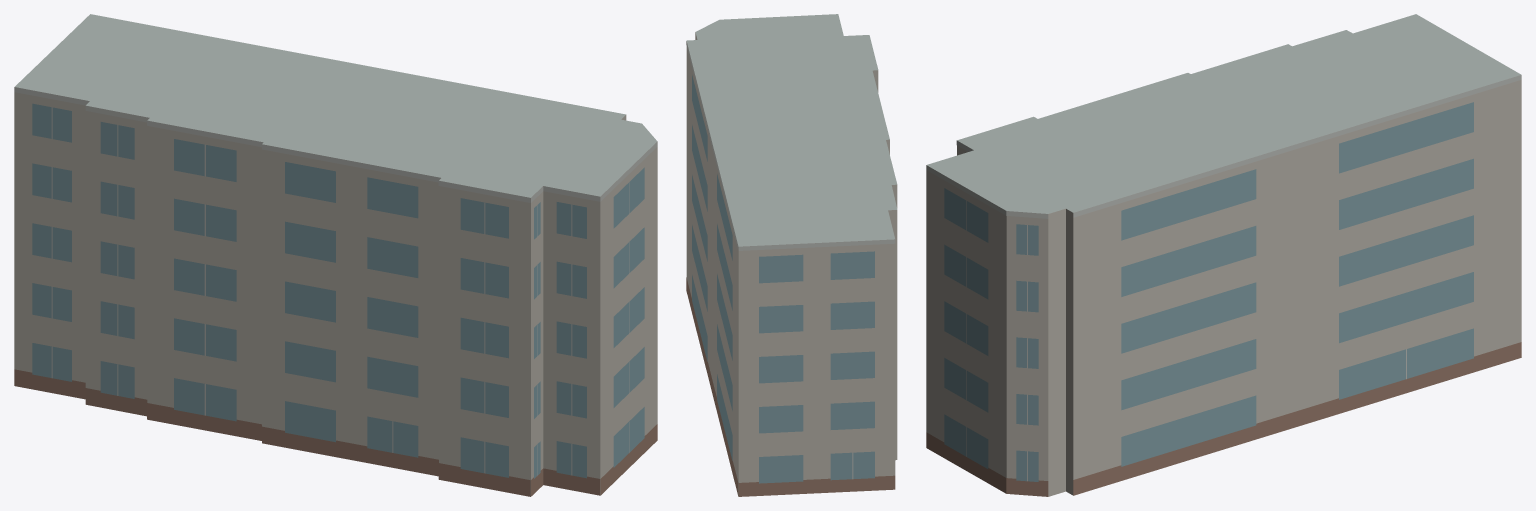
File: survey-upis-32535076.glb
3 renders of one model, left to right at view 1: azimuth 30°, elevation 25°; view 2: azimuth 150°, elevation 25°; view 3: azimuth 270°, elevation 25°, orthographic. The views are drawn at different scales.
Parts seen in each view (by area): view 1: survey-upis-32535076.tmp; view 2: survey-upis-32535076.tmp; view 3: survey-upis-32535076.tmp.
Part boxes in pixels (x1,y1,x2,y2): survey-upis-32535076.tmp: (14,14,657,496); survey-upis-32535076.tmp: (686,14,897,496); survey-upis-32535076.tmp: (926,14,1521,496).
Size of the model in its own units: 21.24 by 14 by 26.71.
